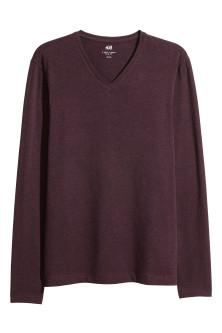teeshirt: (9, 26, 219, 315)
